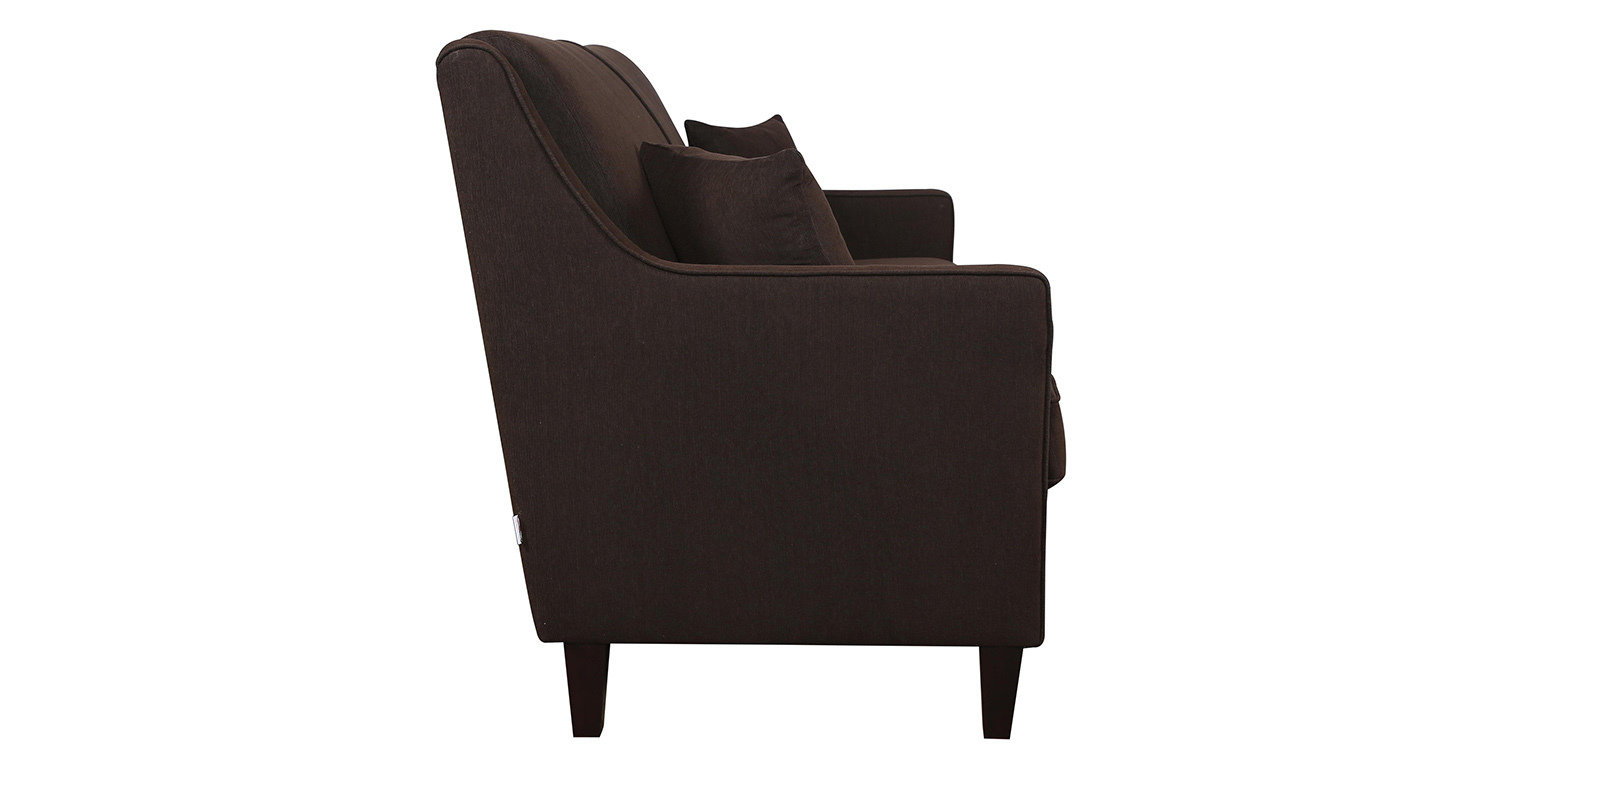Oscar Three Seater Sofa in Chestnut Brown Colour by CasaCraft: (433, 28, 1066, 739)
